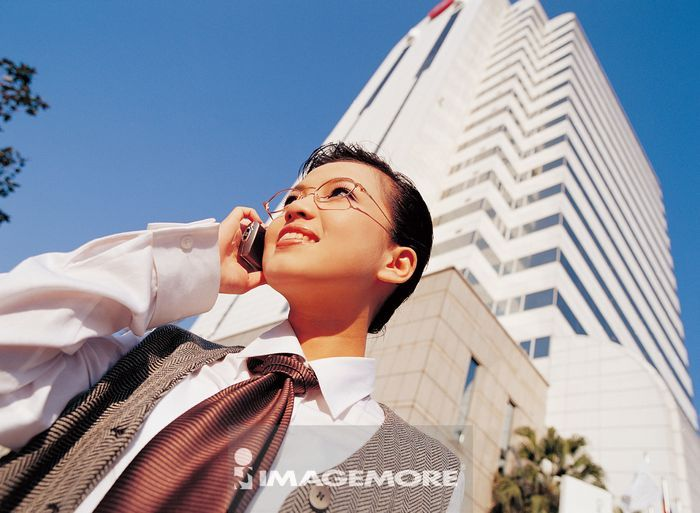talk: (215, 174, 368, 300)
